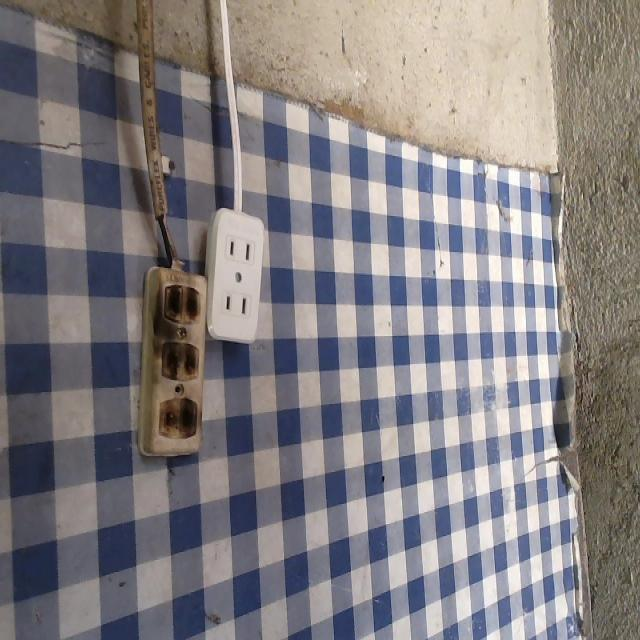-: (155, 335, 208, 384), (157, 277, 204, 328), (153, 392, 199, 440)
